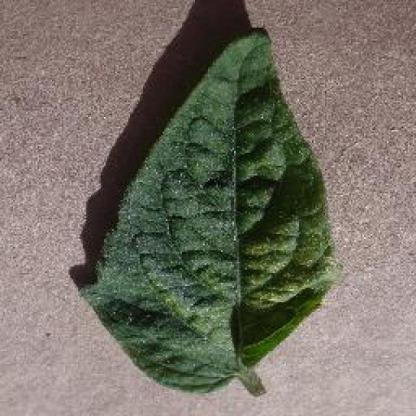Tomato_Spider_Mites: (81, 29, 334, 384)
